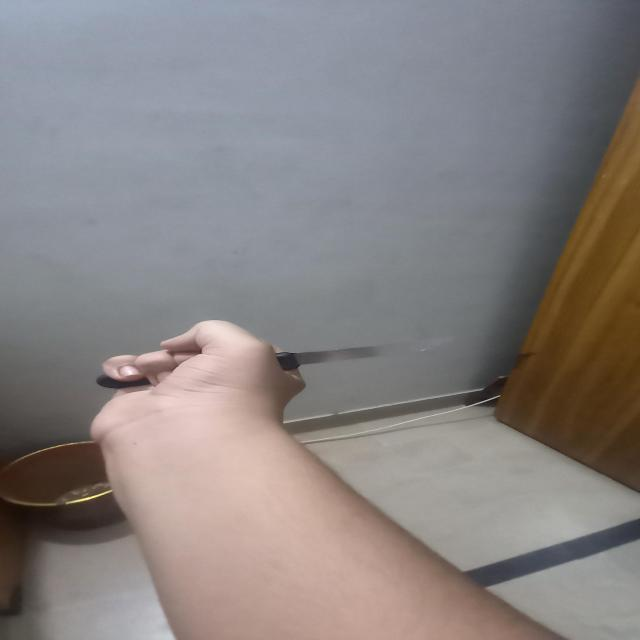Knife: (92, 319, 570, 640), (95, 336, 457, 388)
